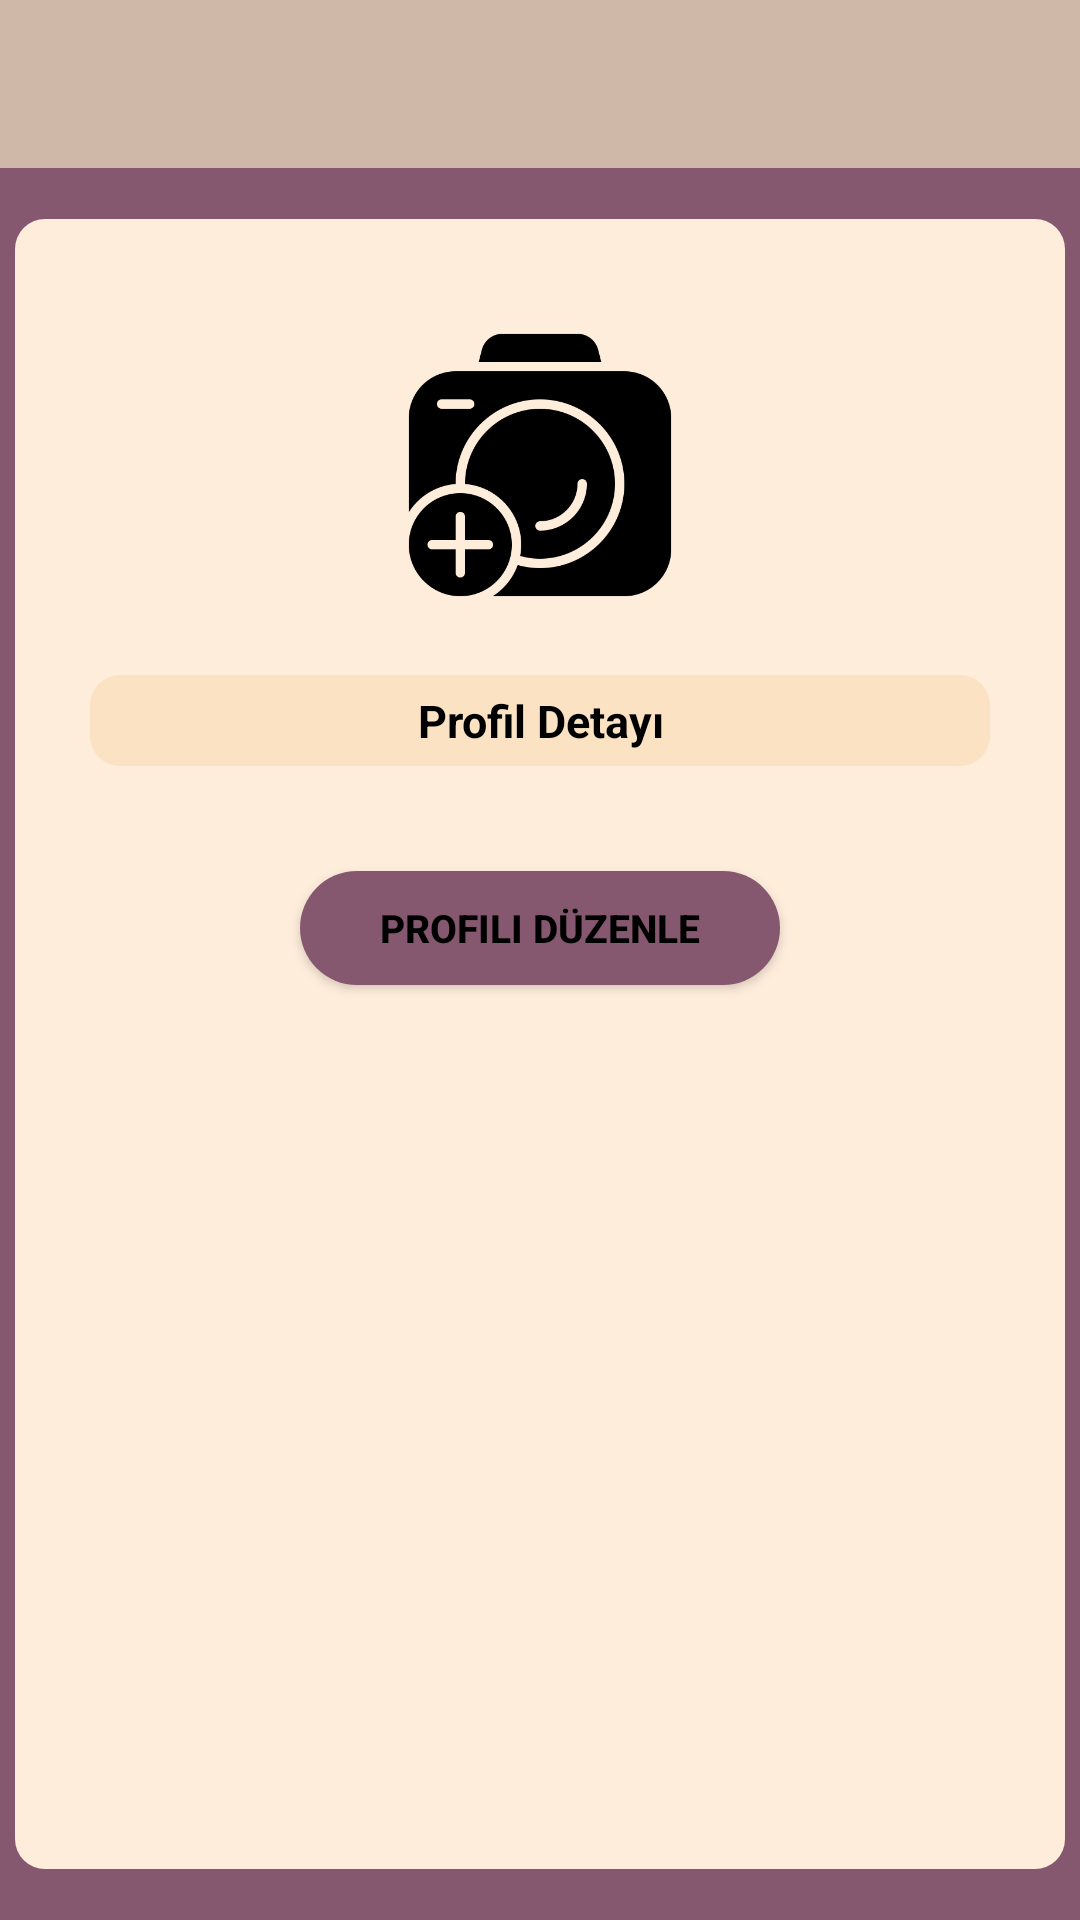

Icons on this 1080*1920 Android screen, each with the point to tap as [x,y]:
camera: [540,465]
